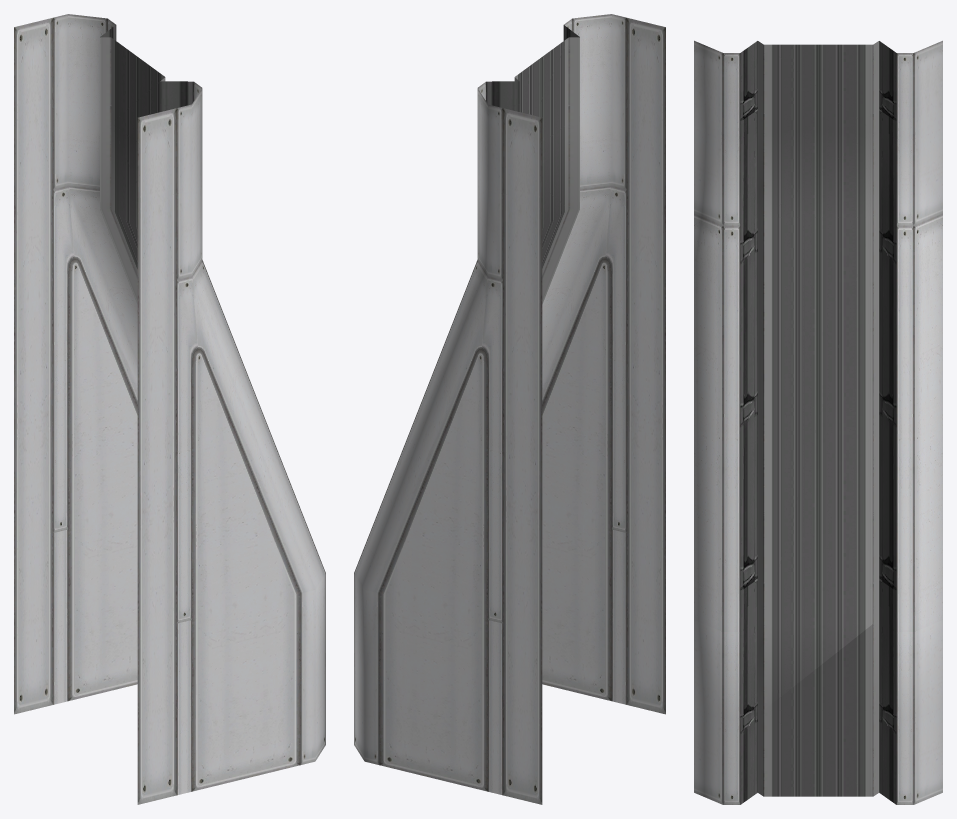
Rendered from CeilingBrace_AngleB.FBX.
3 views of the same model, side by side, from view 1: azimuth 30°, elevation 25°; view 2: azimuth 150°, elevation 25°; view 3: azimuth 270°, elevation 25° (orthographic).
Parts seen in each view (by area): view 1: CeilingBrace_AngleB; view 2: CeilingBrace_AngleB; view 3: CeilingBrace_AngleB.
Part boxes in pixels (x1,y1,x2,y2): CeilingBrace_AngleB: [14, 14, 325, 804]; CeilingBrace_AngleB: [354, 14, 665, 804]; CeilingBrace_AngleB: [694, 40, 942, 804].
Size of the model in its own units: 1.23 by 4 by 1.3.
